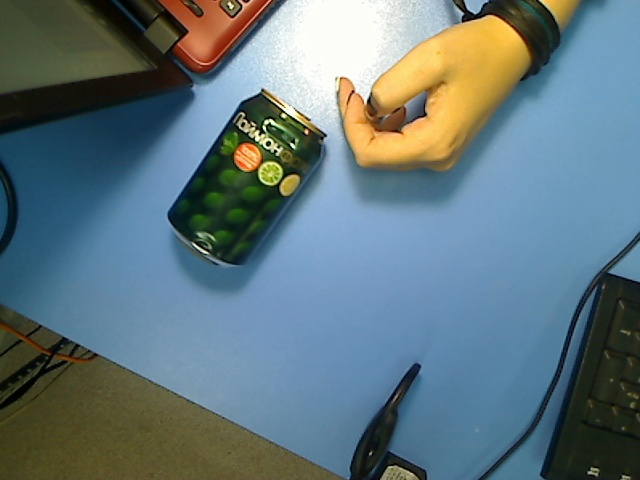can: (163, 87, 327, 271)
